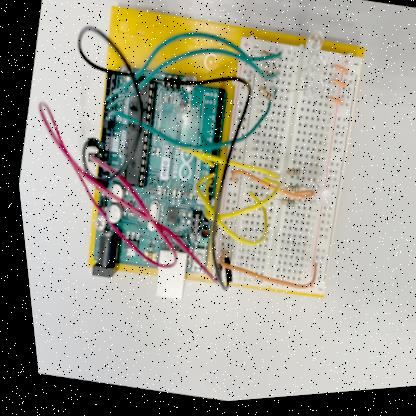5V: (61, 166, 175, 281)
ARDUINO: (91, 66, 232, 278)
Breadboard: (202, 34, 367, 303)
GND: (138, 75, 255, 302), (72, 85, 152, 197), (71, 15, 138, 85)
LED: (310, 193, 329, 212)
Long wire: (99, 46, 279, 115), (103, 92, 272, 162), (110, 33, 279, 100), (185, 178, 268, 252), (173, 145, 278, 188), (213, 256, 314, 297), (199, 178, 282, 226), (224, 171, 313, 209)
Phototransistor: (304, 35, 323, 61), (303, 84, 323, 105), (305, 62, 324, 84)
Resistor: (253, 50, 282, 69), (272, 202, 300, 212), (256, 91, 271, 105), (258, 75, 275, 86), (281, 173, 298, 181), (280, 189, 296, 197)
Short wire: (330, 84, 345, 94), (333, 70, 347, 79), (327, 102, 341, 110)
